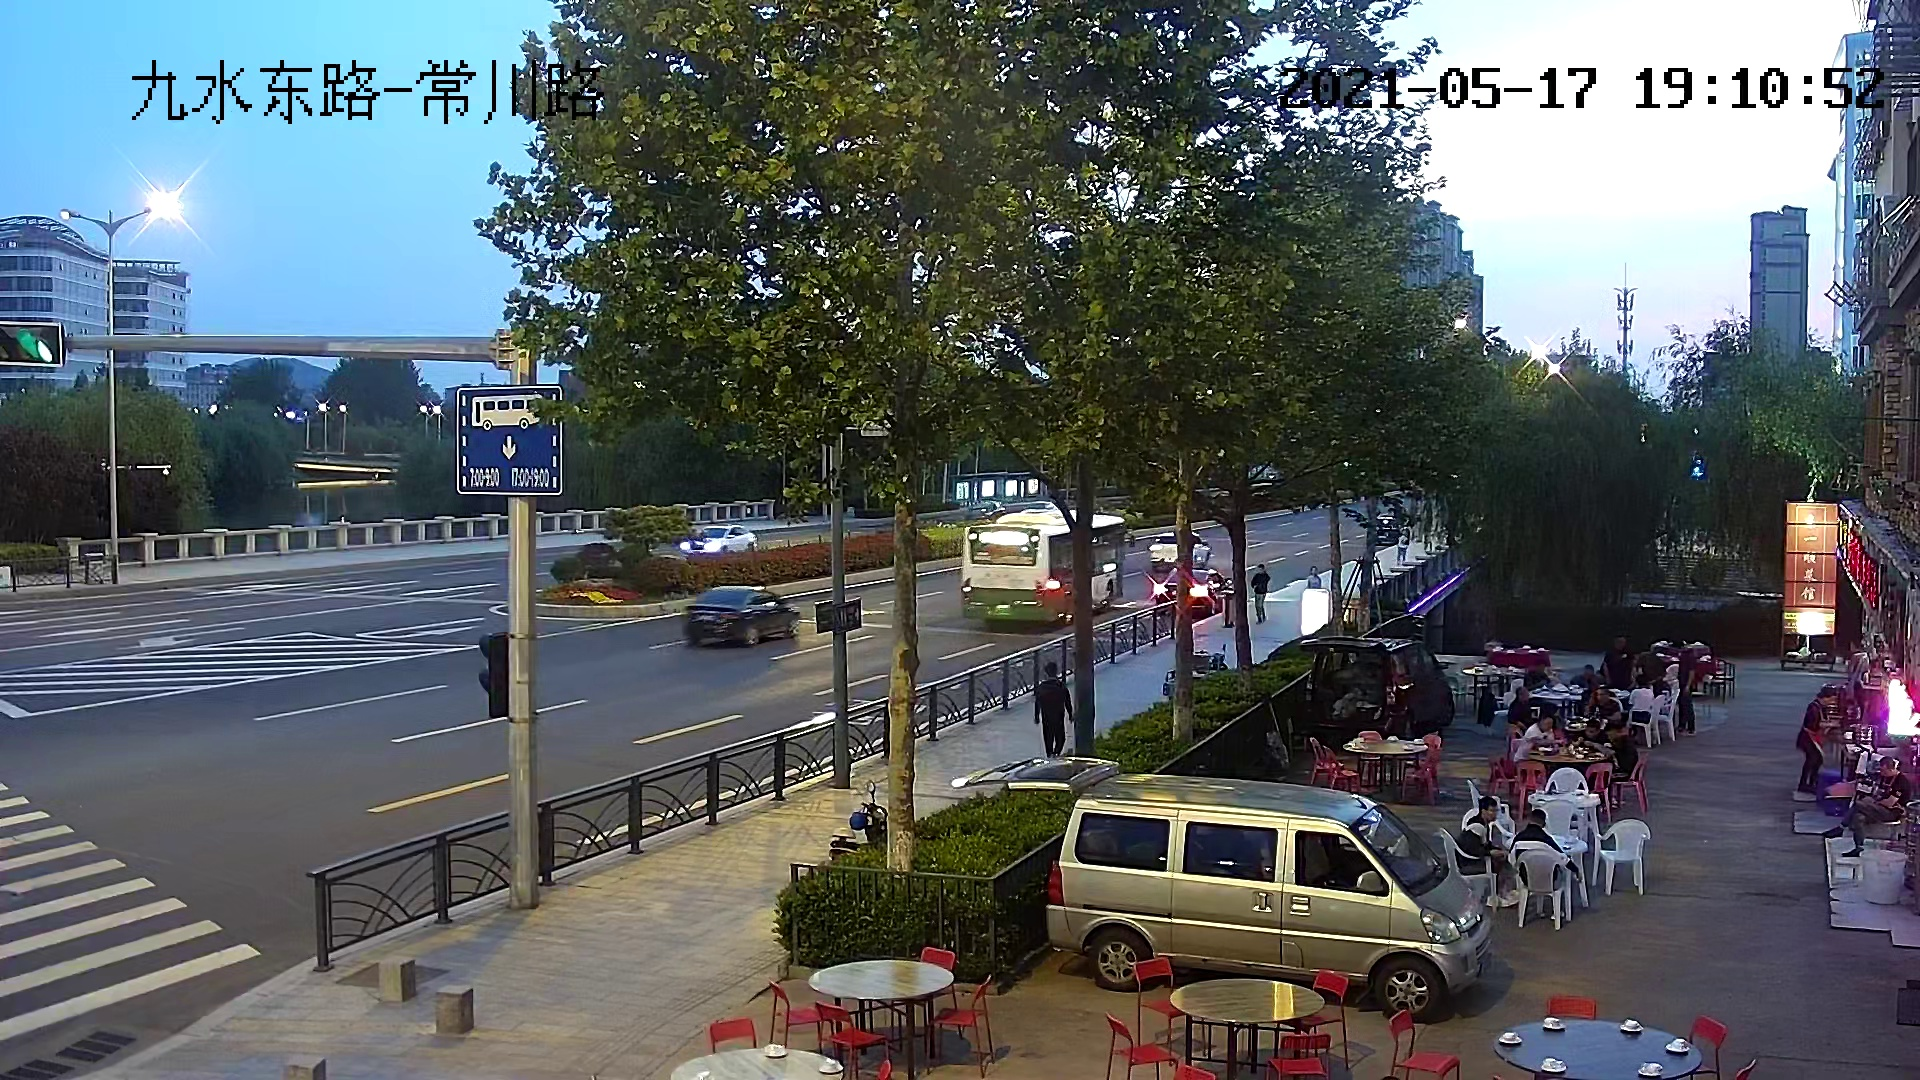chair: (1133, 956, 1207, 1065), (1274, 968, 1348, 1071), (924, 975, 996, 1077), (814, 1000, 890, 1077), (766, 976, 835, 1058), (1104, 1010, 1179, 1079), (1437, 827, 1497, 913), (1389, 1009, 1460, 1077), (1514, 848, 1572, 931), (1592, 818, 1650, 895), (915, 945, 963, 1040), (1267, 1033, 1331, 1079), (1684, 1013, 1727, 1077), (1611, 752, 1648, 820), (1402, 749, 1445, 807), (1626, 694, 1664, 746), (1321, 745, 1361, 793), (1584, 762, 1614, 822), (1516, 760, 1545, 822), (709, 1015, 756, 1054), (1309, 736, 1344, 785), (1485, 752, 1523, 794), (1466, 779, 1509, 816), (1456, 657, 1484, 705), (1544, 767, 1588, 795), (1422, 733, 1441, 794), (1659, 687, 1680, 744), (1358, 731, 1382, 781), (1662, 663, 1684, 713), (1712, 663, 1735, 703), (1713, 658, 1726, 694)
table: (807, 959, 955, 1077), (1168, 977, 1327, 1079), (1491, 1017, 1702, 1077), (1503, 833, 1589, 906), (670, 1046, 843, 1079), (1342, 738, 1428, 794), (1526, 793, 1601, 837), (1462, 666, 1516, 709), (1646, 653, 1716, 680), (1528, 684, 1630, 702), (1528, 745, 1611, 764), (1487, 645, 1549, 669), (1557, 716, 1614, 735), (1652, 640, 1710, 657)
table_chair: (765, 945, 996, 1079), (1102, 955, 1349, 1079), (1389, 996, 1729, 1079), (1436, 818, 1652, 934), (1484, 742, 1651, 824), (669, 1015, 844, 1079), (1309, 731, 1447, 808), (1527, 683, 1683, 749), (1466, 766, 1602, 837), (1644, 653, 1737, 705), (1455, 655, 1516, 711)
